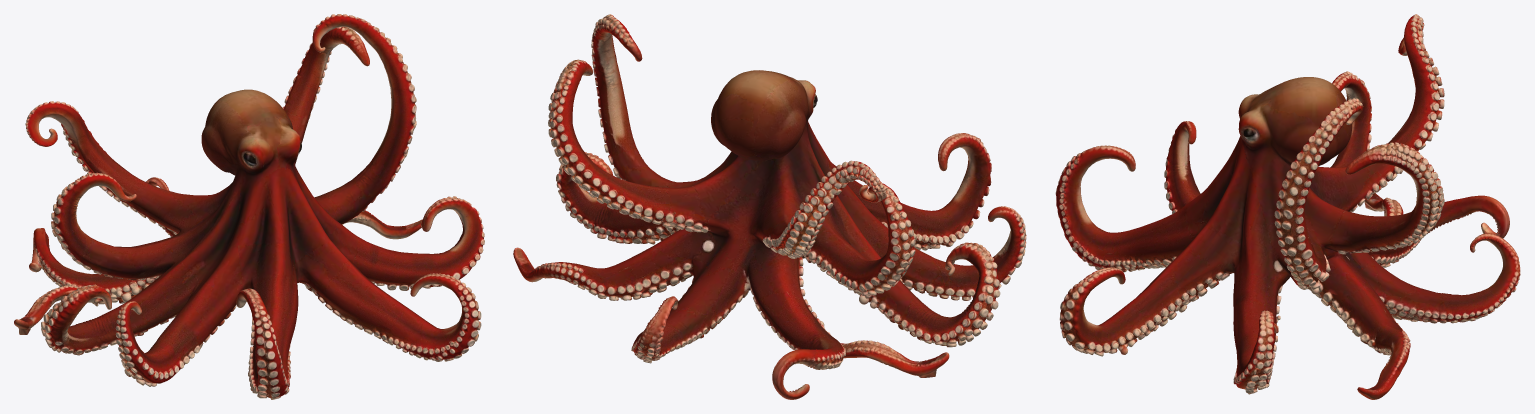
Rendered from octopus.glb.
3 views of the same model, side by side, from view 1: azimuth 30°, elevation 25°; view 2: azimuth 150°, elevation 25°; view 3: azimuth 270°, elevation 25° (orthographic). The views are drawn at different scales.
Size of the model in its own units: 1.9 by 1.08 by 1.73.
Materials: 1 (1 with a texture image).
